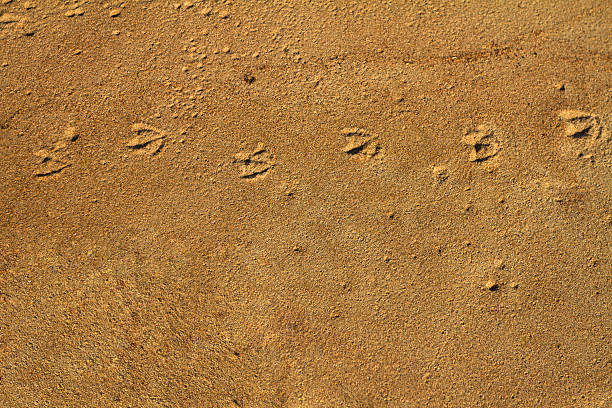animal_foot_print: (558, 110, 611, 157), (33, 126, 78, 178), (234, 143, 274, 178), (462, 125, 500, 161), (126, 122, 166, 155), (340, 127, 379, 160)
